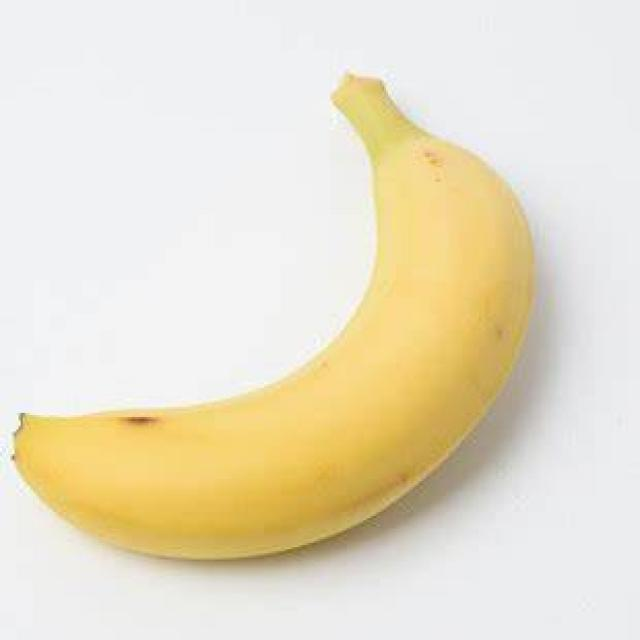Banana: (11, 76, 541, 564)
